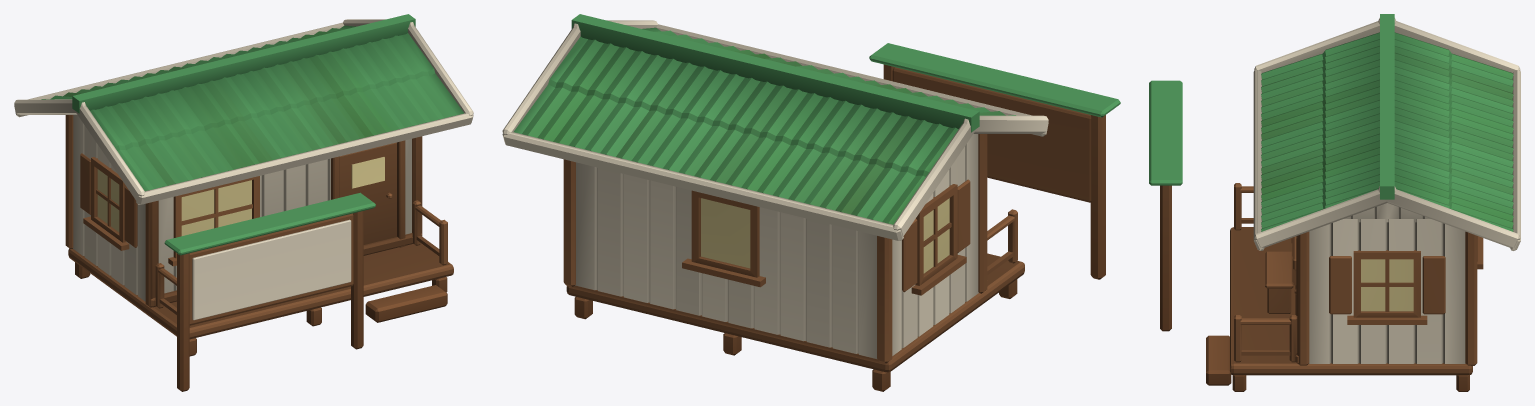
The model's file is kantor.glb.
The picture shows the model from 3 angles, left to right: view 1: azimuth 30°, elevation 25°; view 2: azimuth 150°, elevation 25°; view 3: azimuth 270°, elevation 25°; orthographic projection. The views are drawn at different scales.
Visible parts, largest first — view 1: kantor_mesh, SignBoard; view 2: kantor_mesh; view 3: kantor_mesh.
Boxes of the visible parts, bbox=[...] form: kantor_mesh: bbox=[14, 14, 473, 391]; SignBoard: bbox=[192, 219, 351, 320]; kantor_mesh: bbox=[502, 14, 1120, 391]; kantor_mesh: bbox=[1149, 14, 1520, 391].
Bounding box in the file's own units: 5.25 × 3.12 × 4.65.
